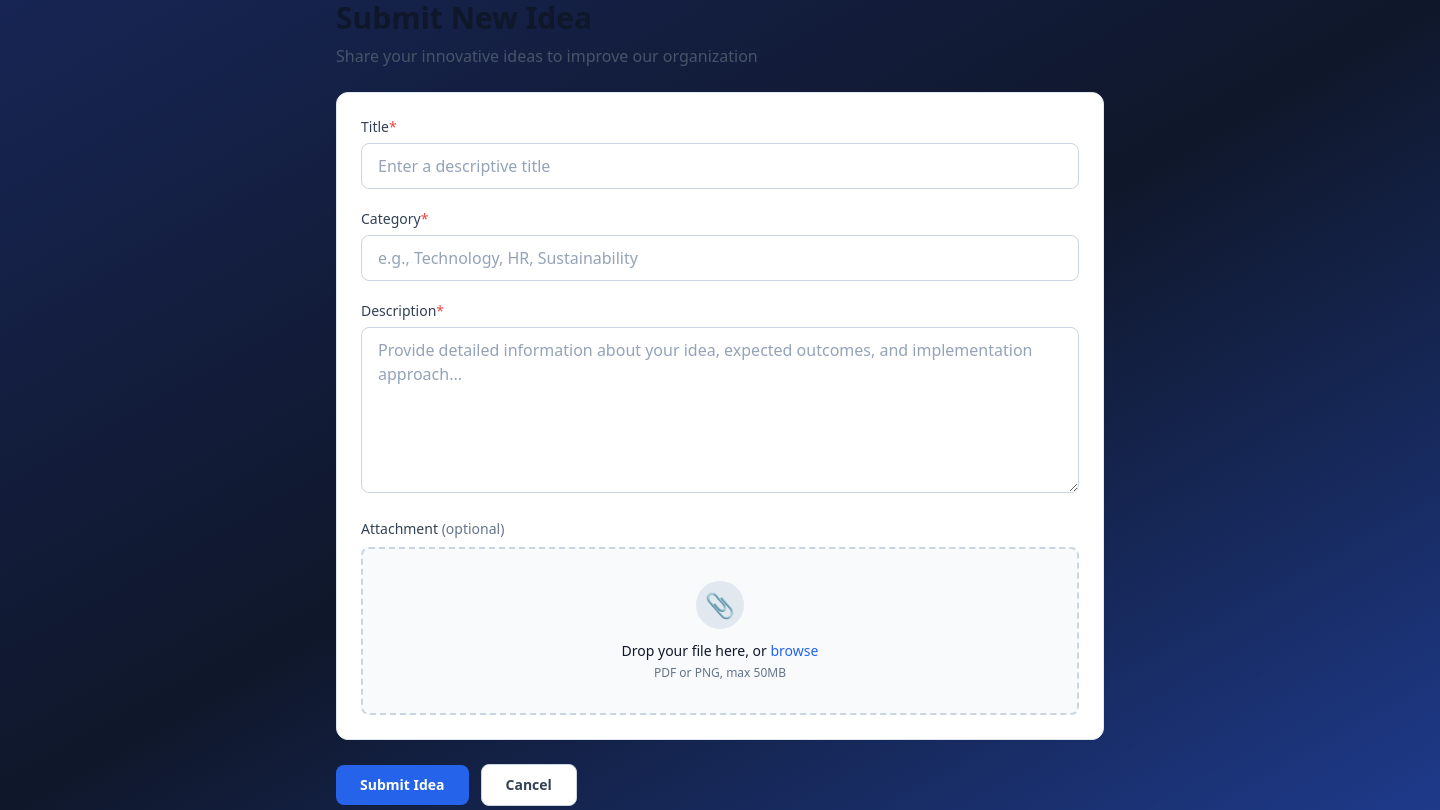
Test: IdeaForm › validation › should show validation error when description is empty
Type "Test Title" into the field labelled "Title*".
click(720, 166); type("Test Title")  # box [361, 143, 1079, 189]
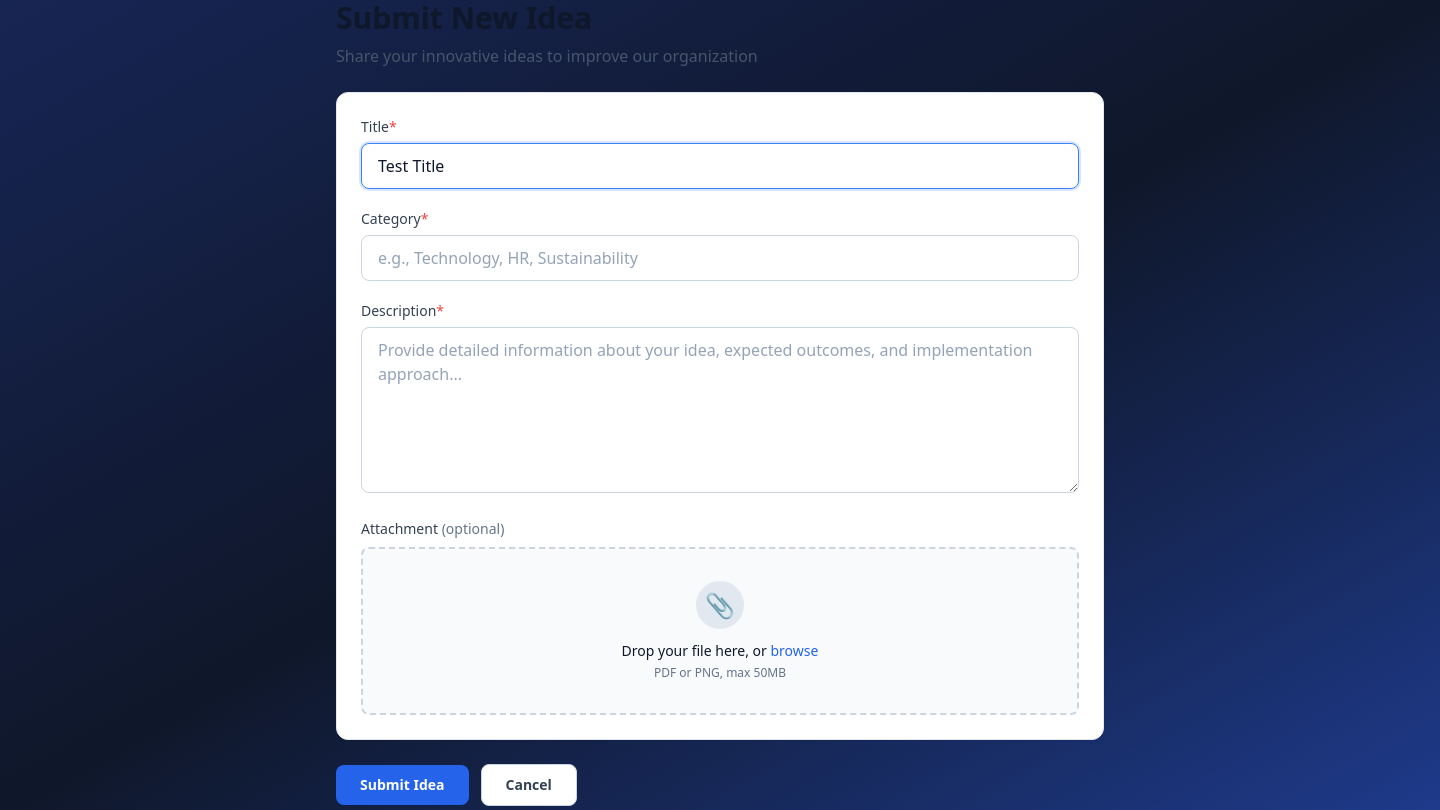
Click the button "Submit Idea".
click(402, 785)  # box [336, 765, 468, 805]
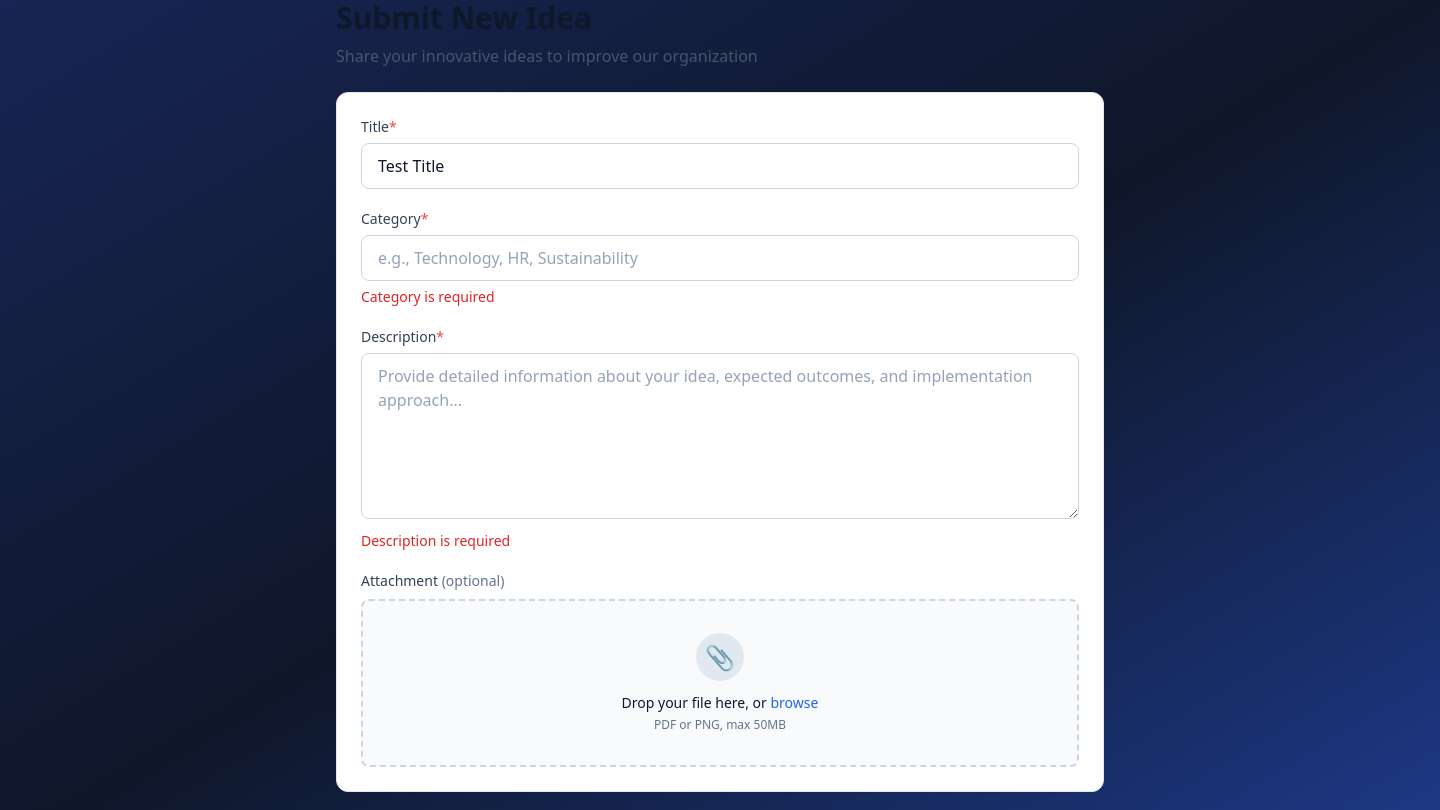
Expected: the text "Description is required" is shown, [361, 531, 510, 550]
